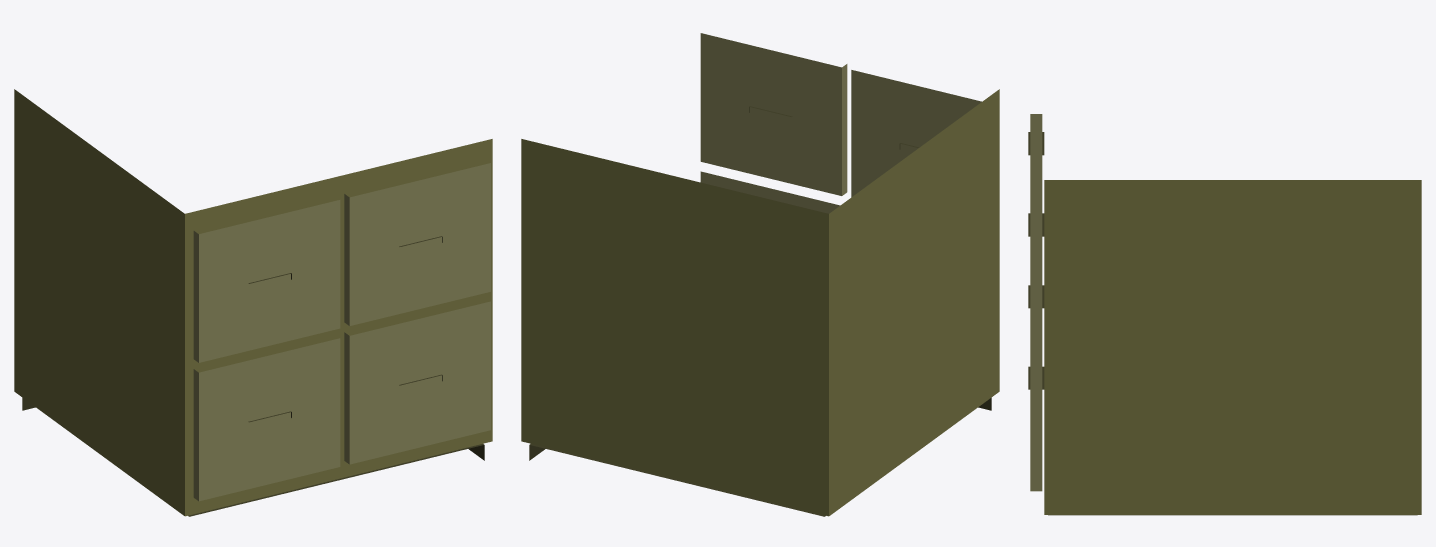
File: Storage-olive.glb
3 views of the same model, side by side, from view 1: azimuth 30°, elevation 25°; view 2: azimuth 150°, elevation 25°; view 3: azimuth 270°, elevation 25° (orthographic). The views are drawn at different scales.
Visible parts, largest first — view 1: Storage; view 2: Storage; view 3: Storage.
Part boxes in pixels (x1,y1,x2,y2): Storage: (14, 89, 492, 516); Storage: (521, 33, 999, 516); Storage: (1028, 114, 1421, 515).
Bounding box in the file's own units: 1 × 1 × 1.
